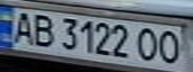1: (75, 18, 96, 54)
2: (109, 21, 136, 60), (90, 19, 115, 56)
3: (54, 16, 81, 52)
A: (6, 9, 39, 44)
B: (27, 11, 57, 47)
O: (133, 25, 163, 63), (154, 28, 184, 65)
